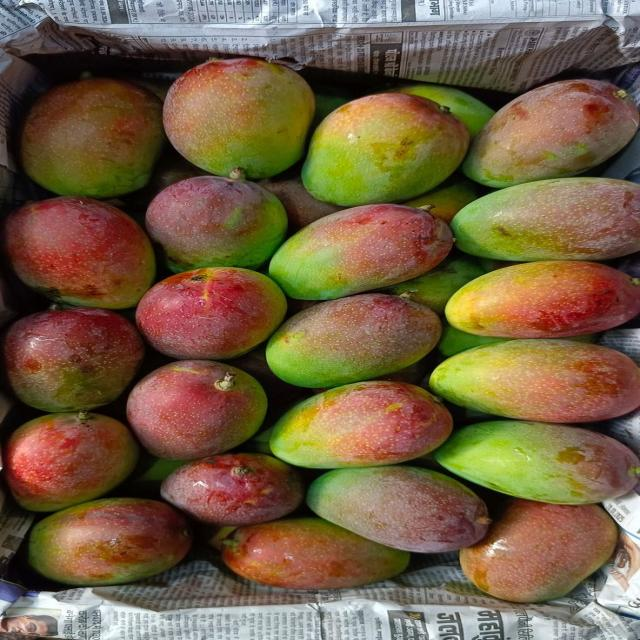mango: (302, 93, 469, 206), (463, 80, 639, 187), (164, 58, 314, 179), (269, 205, 453, 299), (20, 78, 164, 198), (430, 340, 639, 422), (434, 421, 639, 504), (5, 197, 155, 308), (267, 294, 440, 388), (460, 500, 617, 602), (270, 381, 452, 468), (307, 466, 490, 552), (452, 178, 639, 261), (446, 261, 639, 338), (3, 308, 144, 411), (28, 498, 191, 586), (127, 360, 266, 459), (136, 268, 286, 359), (146, 176, 286, 272), (3, 412, 138, 511), (221, 518, 409, 589), (161, 453, 304, 525), (122, 146, 209, 214), (387, 255, 485, 314), (390, 83, 495, 137), (229, 345, 306, 416), (259, 172, 343, 232), (402, 175, 483, 223), (438, 323, 513, 357), (438, 322, 510, 357), (312, 85, 357, 129), (479, 258, 521, 272)
